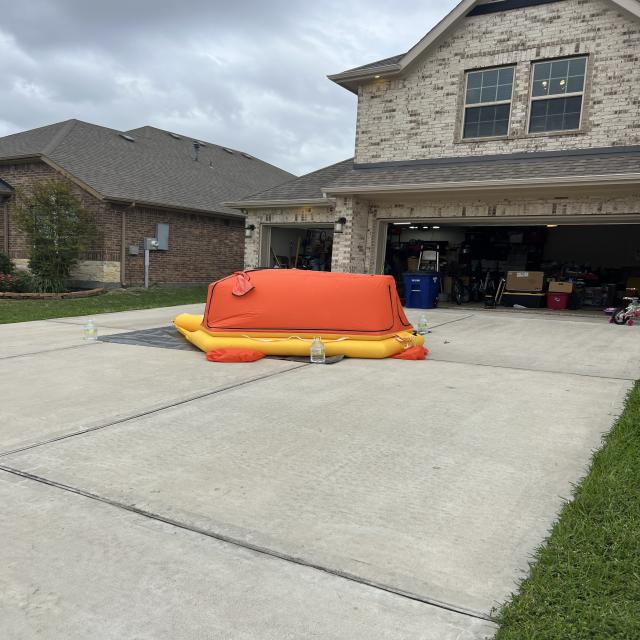Multi-person_life_raft: (173, 264, 429, 362)
